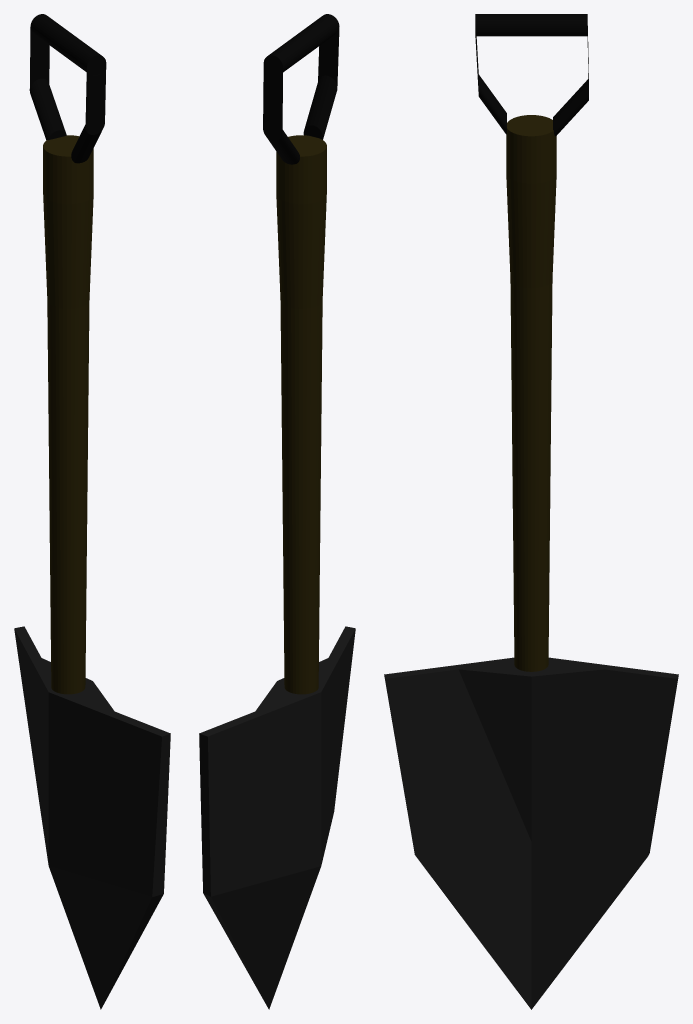
The model's file is Shovel.glb.
3 renders of one model, left to right at view 1: azimuth 30°, elevation 25°; view 2: azimuth 150°, elevation 25°; view 3: azimuth 270°, elevation 25°, orthographic.
Visible parts, largest first — view 1: Plane, Cylinder, Cylinder.001; view 2: Plane, Cylinder, Cylinder.001; view 3: Plane, Cylinder, Cylinder.001.
Part boxes in pixels (bbox=[...]): Plane: bbox=[14, 626, 170, 1009]; Cylinder: bbox=[43, 135, 93, 694]; Cylinder.001: bbox=[29, 14, 106, 163]; Plane: bbox=[199, 626, 355, 1009]; Cylinder: bbox=[276, 135, 326, 694]; Cylinder.001: bbox=[263, 14, 339, 164]; Plane: bbox=[384, 657, 678, 1009]; Cylinder: bbox=[506, 115, 556, 671]; Cylinder.001: bbox=[475, 14, 588, 136].
Size of the model in its own units: 0.3173 by 4.82 by 1.31.
